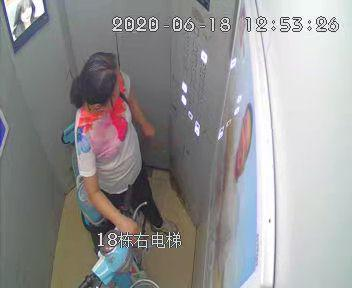Electric-bicycle: (58, 123, 156, 287)
